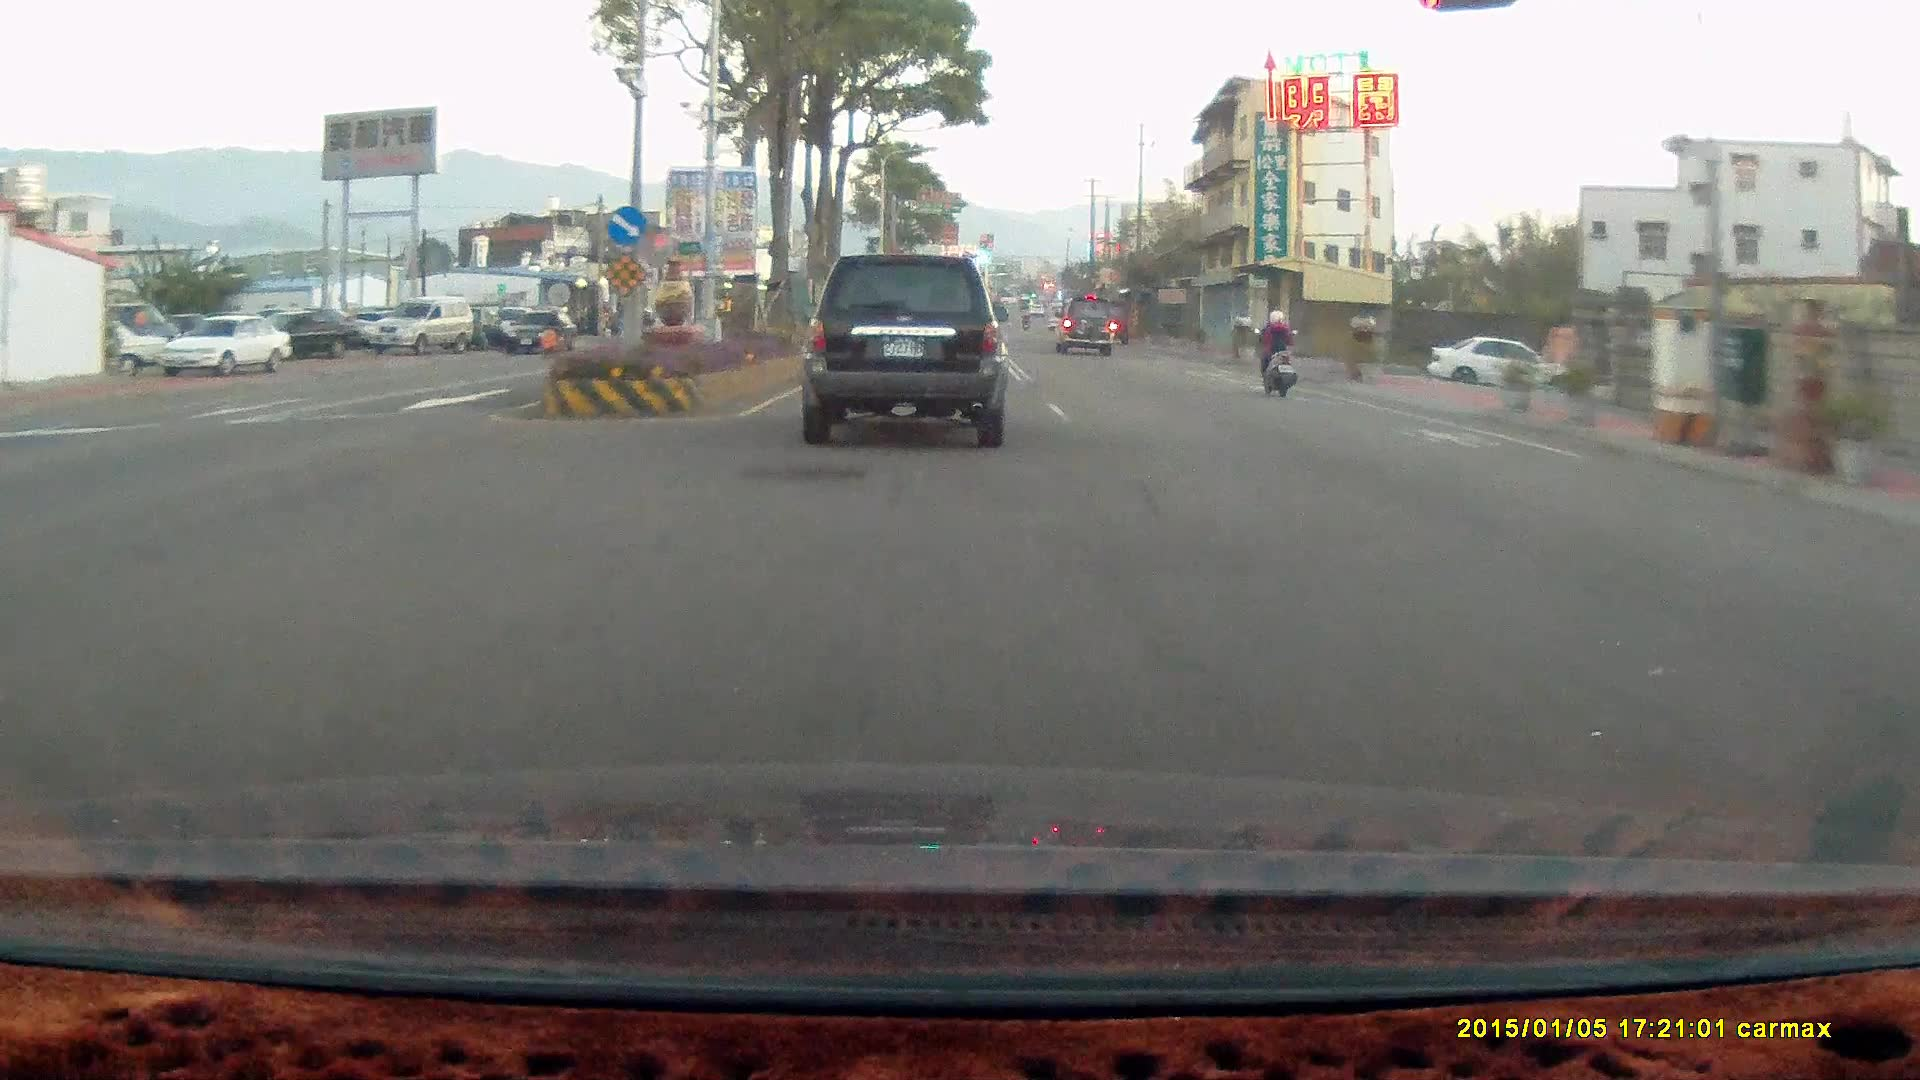rider: (1243, 300, 1309, 406), (1251, 301, 1296, 392), (536, 306, 567, 362)
vehicle: (796, 245, 1010, 447), (796, 251, 1010, 446), (1431, 338, 1584, 395), (1423, 332, 1576, 390), (157, 310, 293, 375), (158, 312, 293, 376), (370, 291, 477, 349), (366, 294, 473, 352), (262, 302, 369, 358), (256, 307, 370, 356), (1050, 292, 1114, 352), (1058, 294, 1116, 357), (510, 307, 583, 356), (508, 306, 580, 352)
